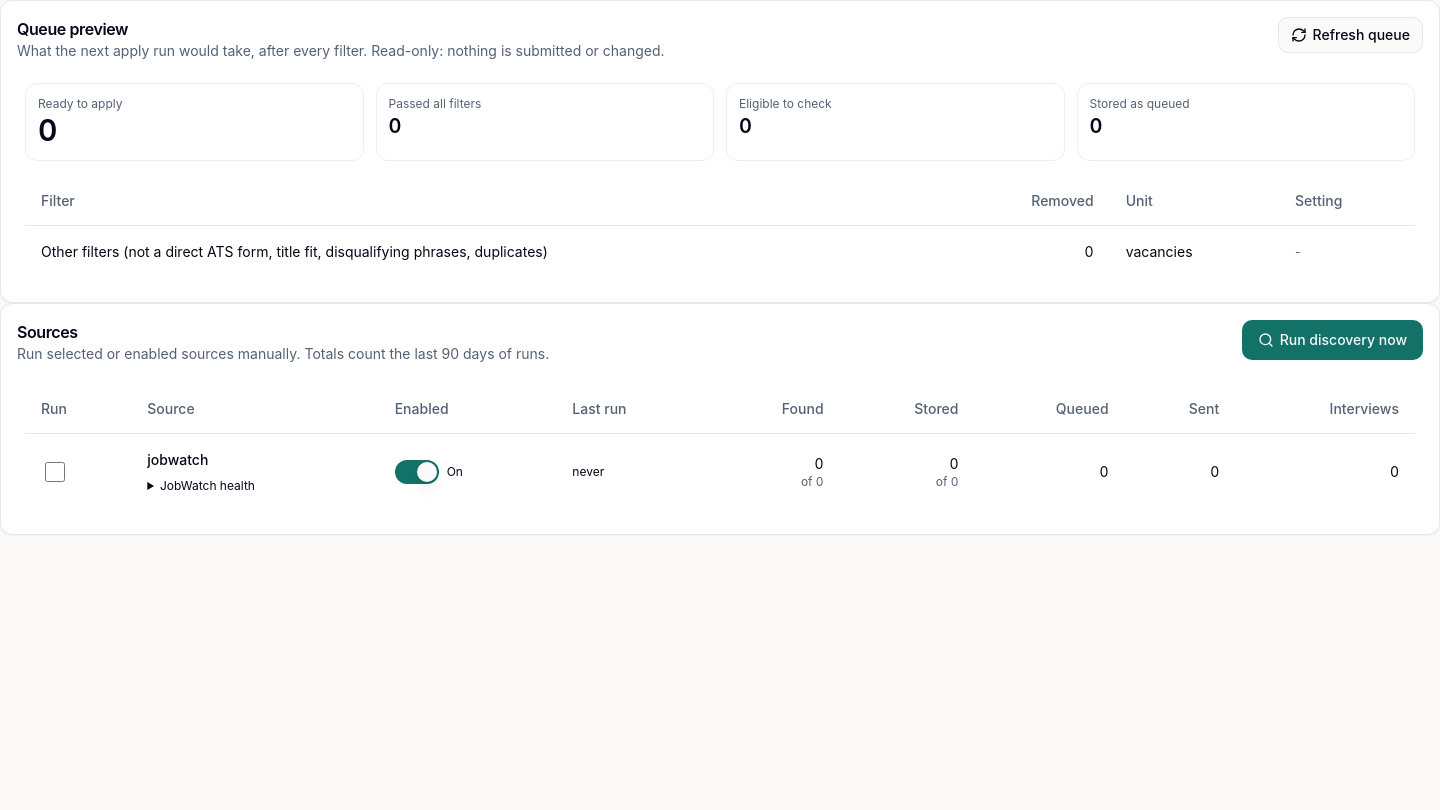
Test: renders JobWatch canonical snapshot and runtime warnings in Sources
The width and height of the screenshot is (1440, 810).
Click the heading "JobWatch health". click: (207, 486)
box: [160,478,255,493]
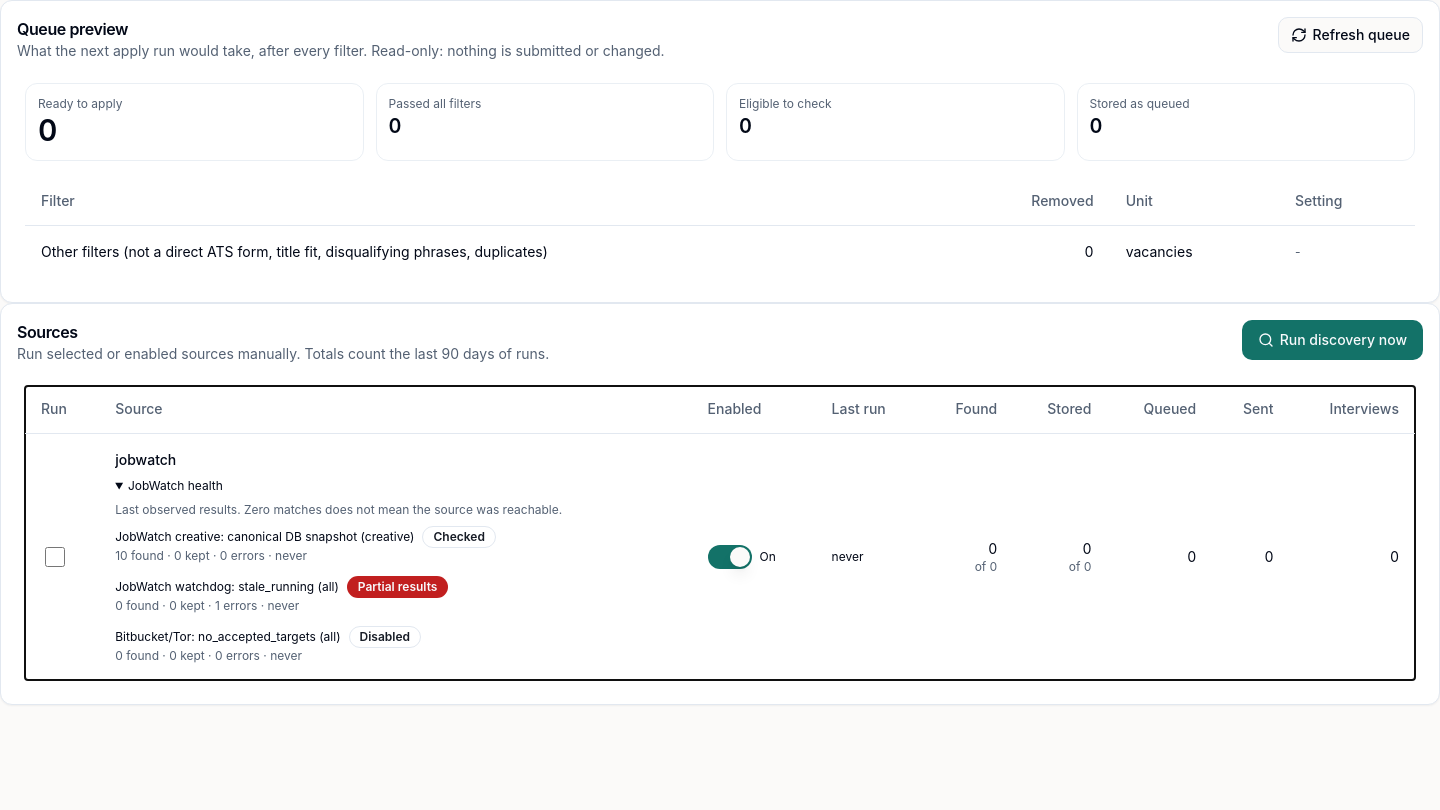
Expected: the text "JobWatch creative: canonical DB snapshot (creative)" is shown, [115,529,414,544]
Expected: the text "JobWatch watchdog: stale_running (all)" is shown, [115,579,339,594]
Expected: the text "Bitbucket/Tor: no_accepted_targets (all)" is shown, [115,629,340,644]
